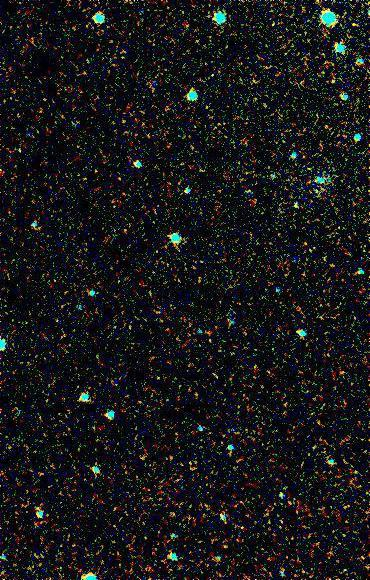star: (320, 66, 350, 96)
